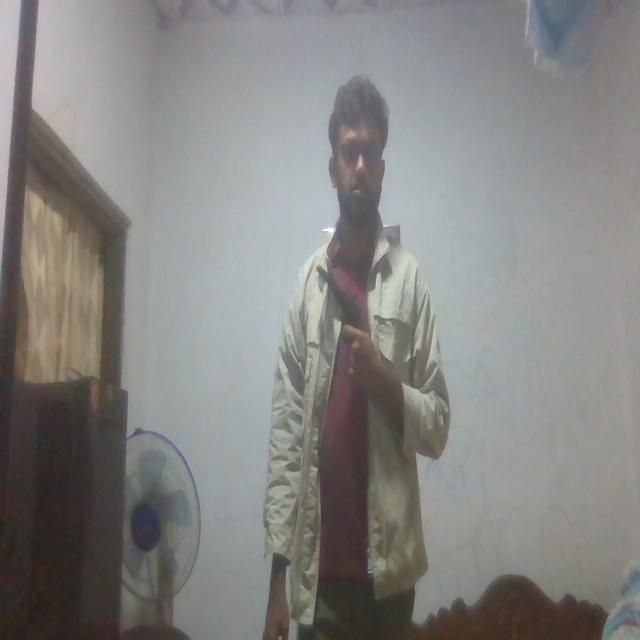Gun_Holder: (306, 256, 376, 363)
Jacket_Wearer: (256, 222, 451, 592)
Person: (259, 63, 487, 640)
